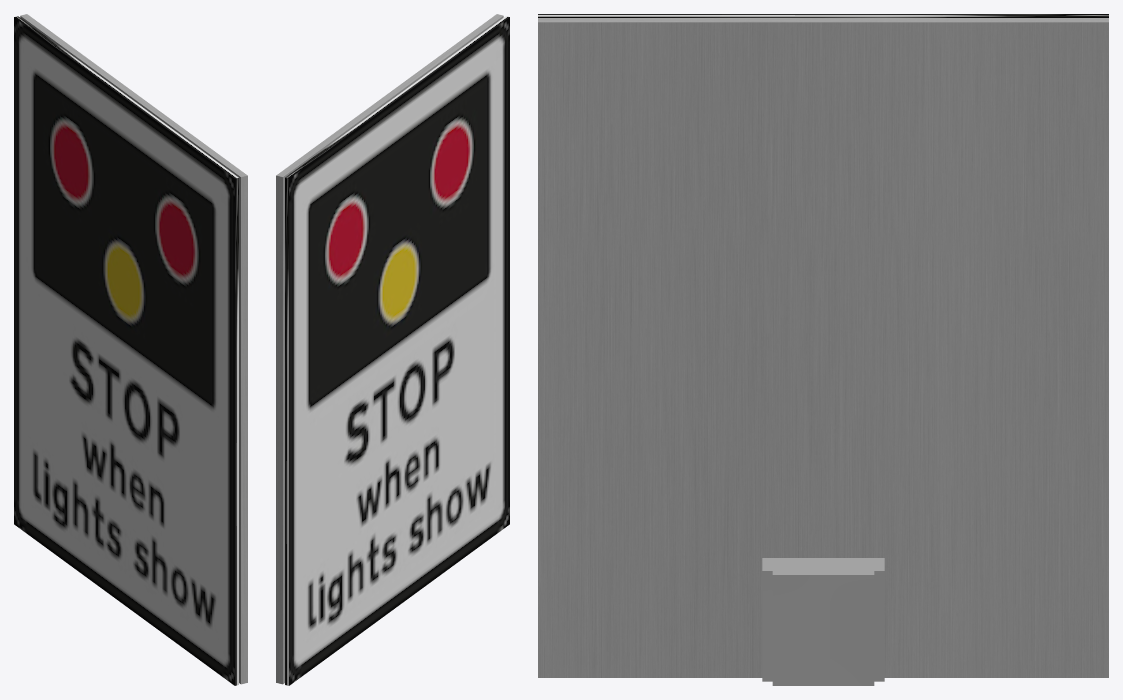
Rendered from level_crossing.obj.
The picture shows the model from 3 angles, left to right: view 1: azimuth 30°, elevation 25°; view 2: azimuth 150°, elevation 25°; view 3: azimuth 270°, elevation 25°; orthographic projection. The views are drawn at different scales.
Visible parts, largest first — view 1: cube; view 2: cube; view 3: cube.
Part boxes in pixels (bbox=[...]): cube: bbox=[14, 14, 247, 685]; cube: bbox=[276, 14, 509, 685]; cube: bbox=[538, 14, 1108, 685].
Bounding box in the file's own units: 0.0922 × 1.11 × 0.875.
2 materials, 2 textured.
